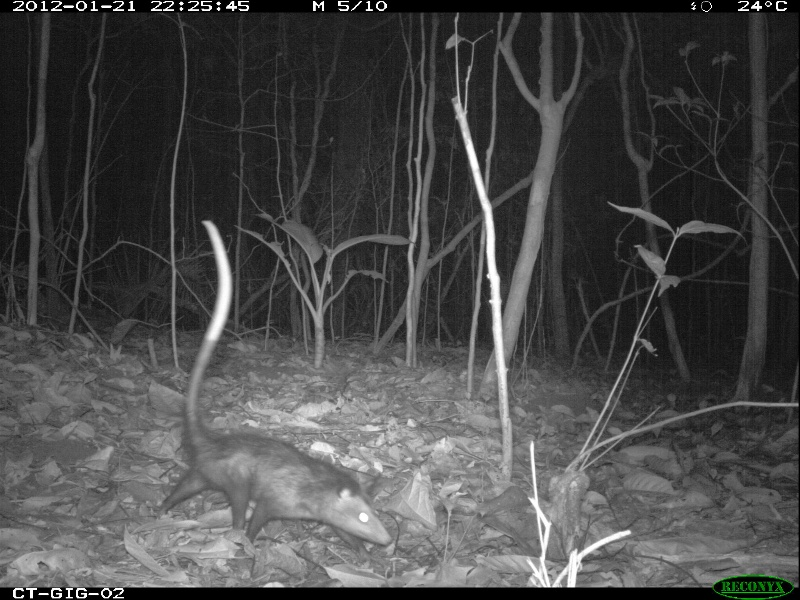opossum: (154, 216, 399, 562)
